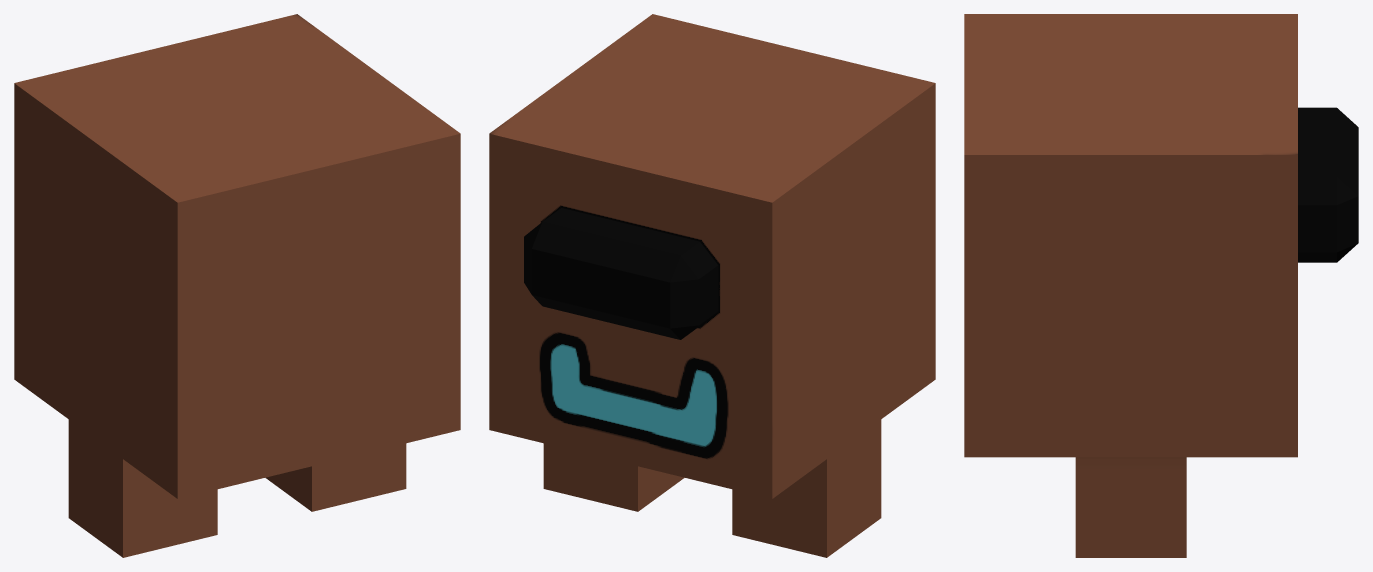
The model's file is DJEnemy.fbx.
3 views of the same model, side by side, from view 1: azimuth 30°, elevation 25°; view 2: azimuth 150°, elevation 25°; view 3: azimuth 270°, elevation 25° (orthographic). The views are drawn at different scales.
Visible parts, largest first — view 1: Cube; view 2: Cube; view 3: Cube.
Boxes of the visible parts, x1,y1,x2,y2 form: Cube: (14,14,460,557); Cube: (489,14,935,557); Cube: (964,14,1358,557).
Bounding box in the file's own units: 300 × 400 × 355.
Materials: 1 (1 with a texture image).
